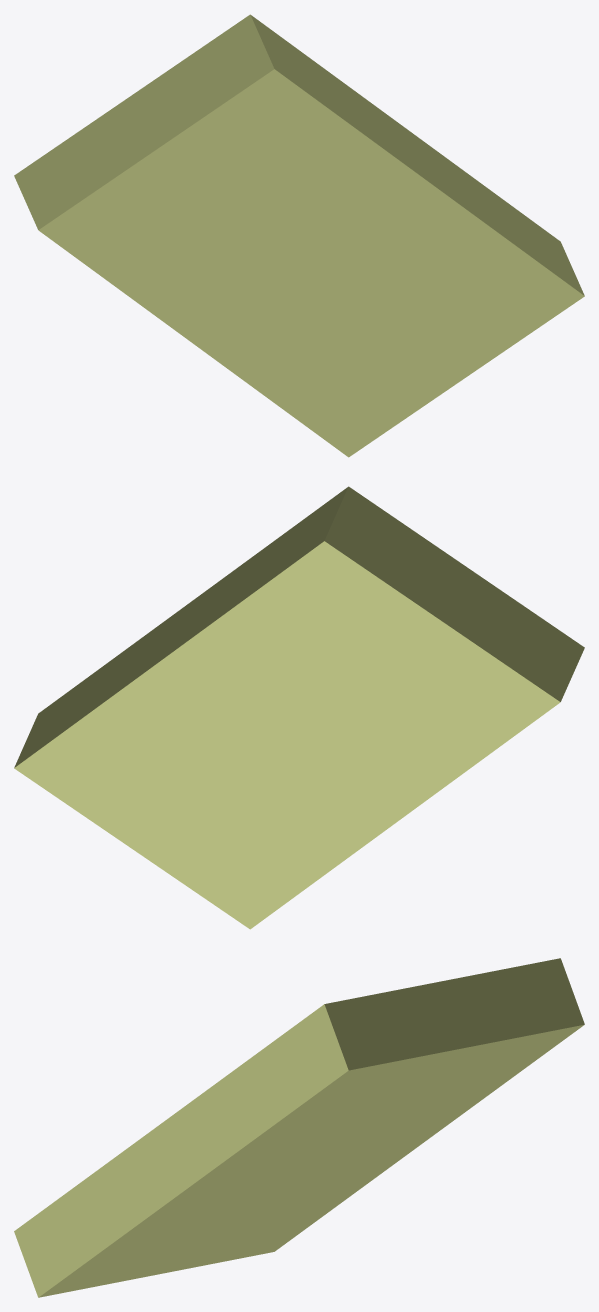
3 renders of one model, top to bottom at view 1: azimuth 30°, elevation 25°; view 2: azimuth 150°, elevation 25°; view 3: azimuth 330°, elevation 25°, orthographic.
Parts seen in each view (by area): view 1: 0_2_2_0_0_0_1_3_3_0_0_0; view 2: 0_2_2_0_0_0_1_3_3_0_0_0; view 3: 0_2_2_0_0_0_1_3_3_0_0_0.
Boxes of the visible parts, x1=… form: 0_2_2_0_0_0_1_3_3_0_0_0: x1=14, y1=14, x2=584, y2=457; 0_2_2_0_0_0_1_3_3_0_0_0: x1=14, y1=486, x2=584, y2=929; 0_2_2_0_0_0_1_3_3_0_0_0: x1=14, y1=958, x2=584, y2=1297.
Size of the model in its own units: 4.36 by 2.63 by 9.
